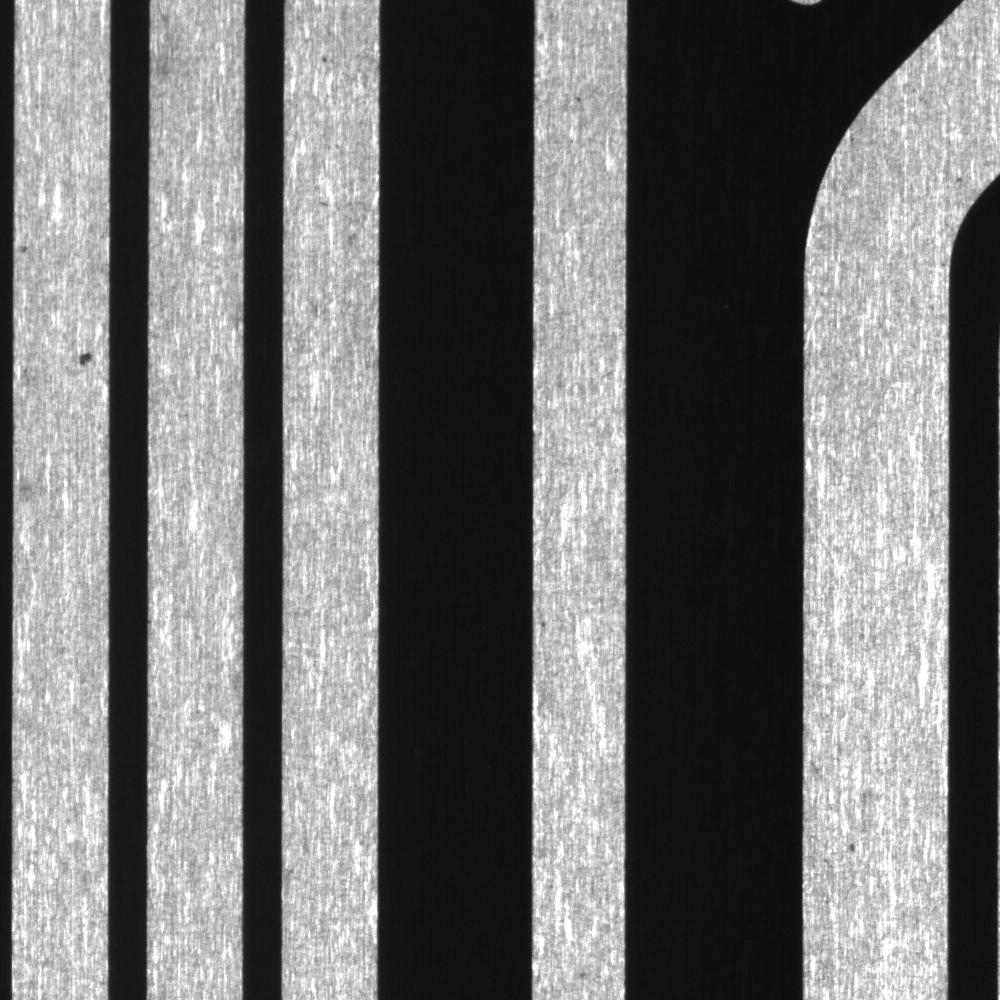Etching: (70, 341, 105, 374), (568, 85, 586, 112), (14, 236, 33, 259)
Pinhole: (834, 828, 871, 869), (535, 609, 560, 639), (313, 44, 337, 71)
